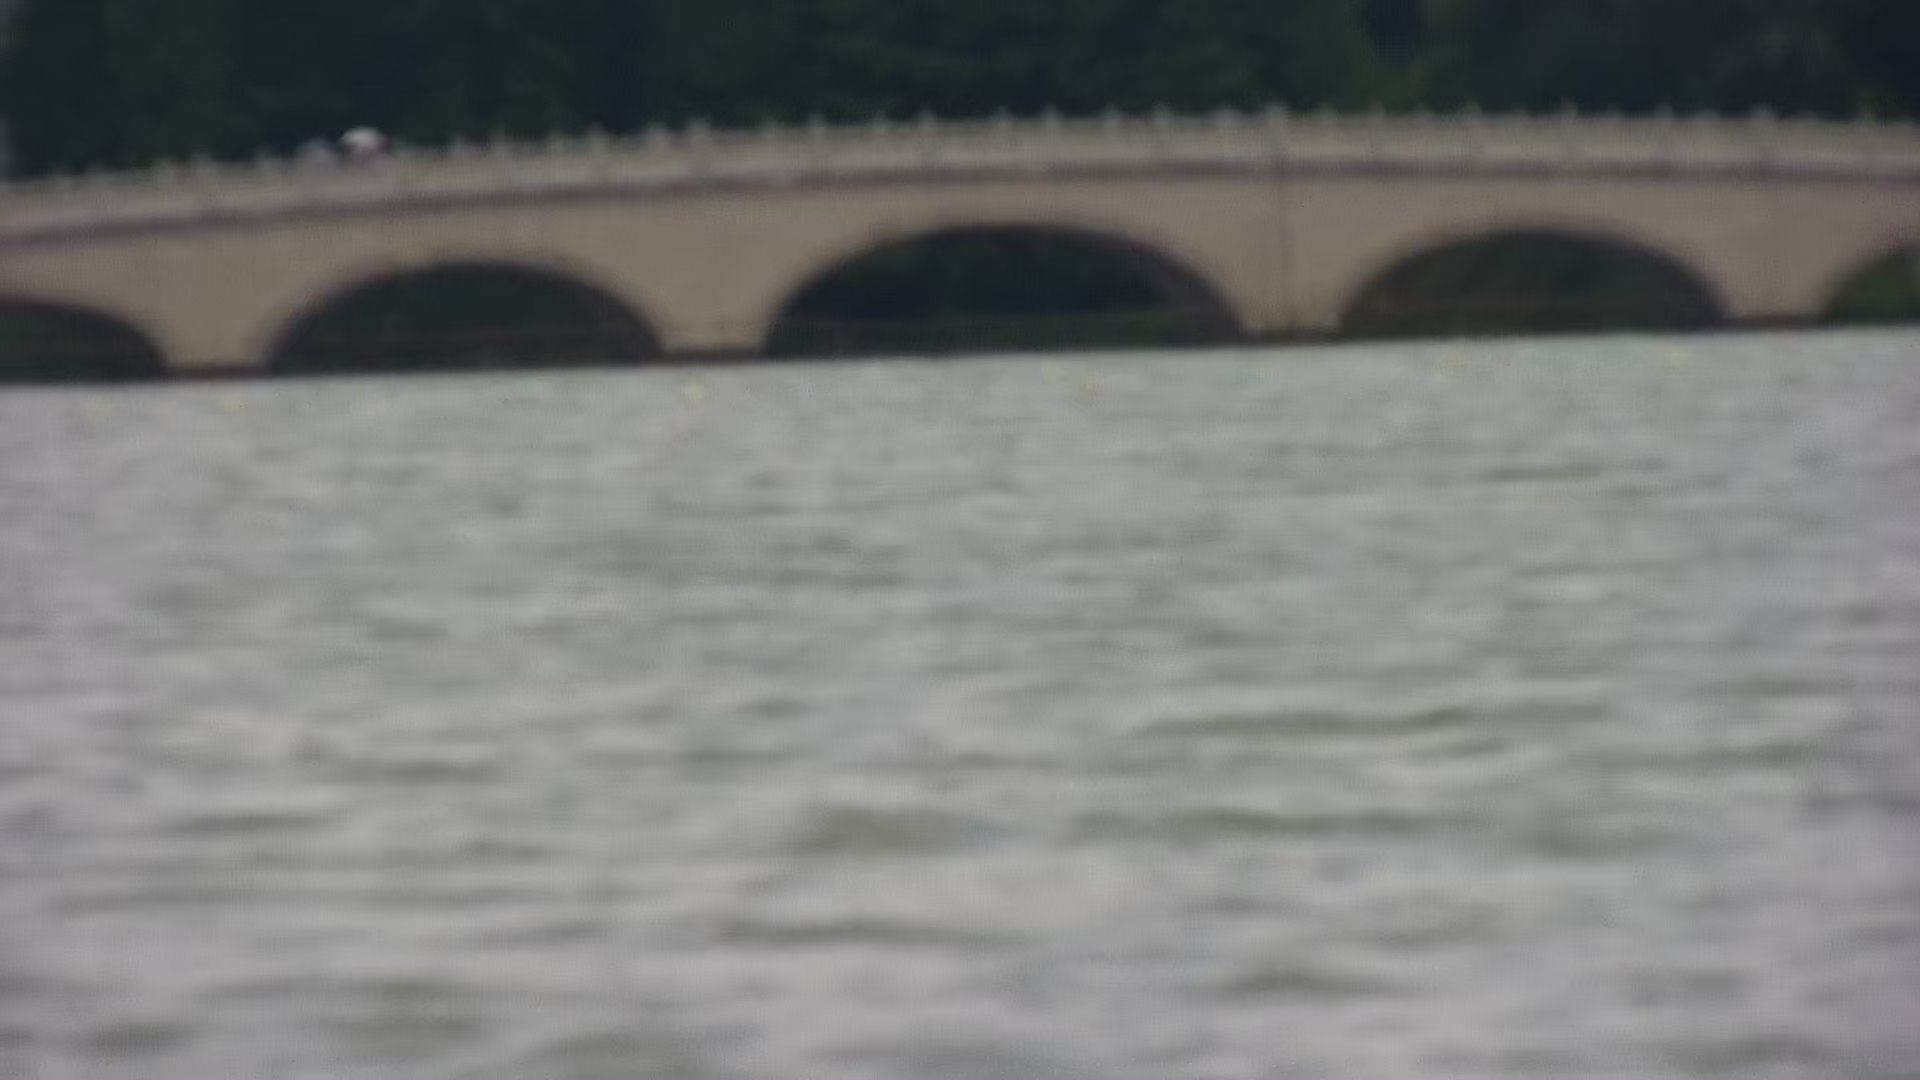bridge: (29, 124, 1898, 351)
